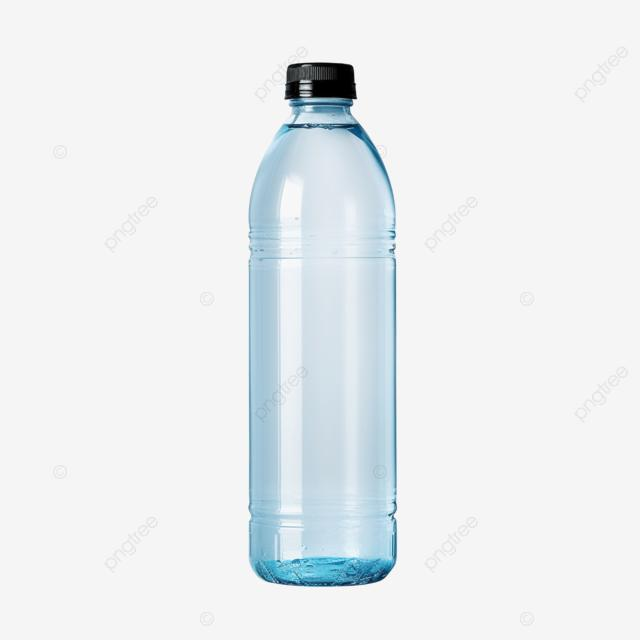bottle: (243, 59, 402, 591)
